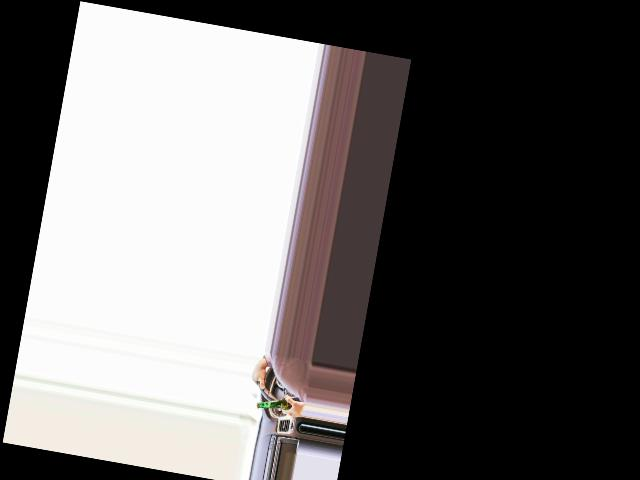beer: (255, 388, 305, 416)
